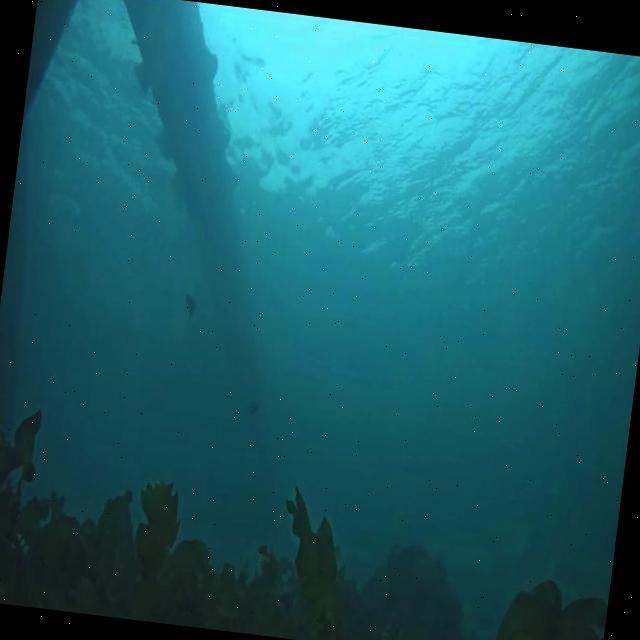fish: (180, 291, 198, 323), (244, 399, 258, 418)
